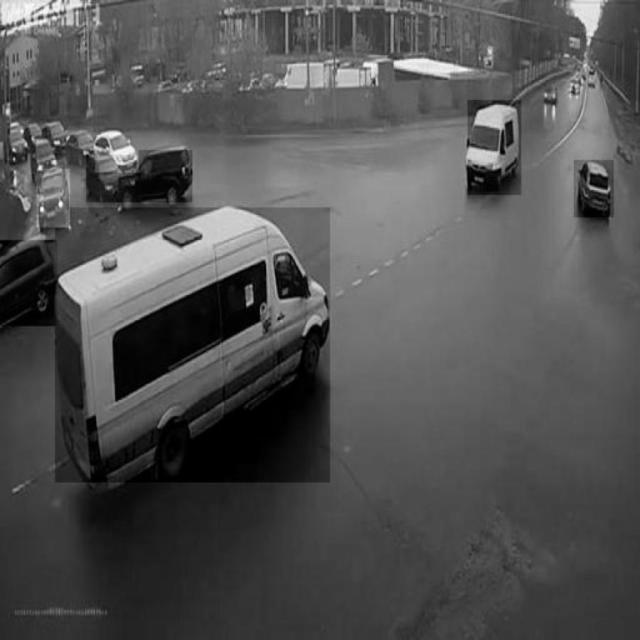accident: (87, 150, 193, 204)
vehicle: (56, 208, 330, 482), (467, 100, 521, 194), (0, 240, 57, 326), (574, 160, 614, 217), (37, 169, 71, 227), (95, 131, 139, 173)
